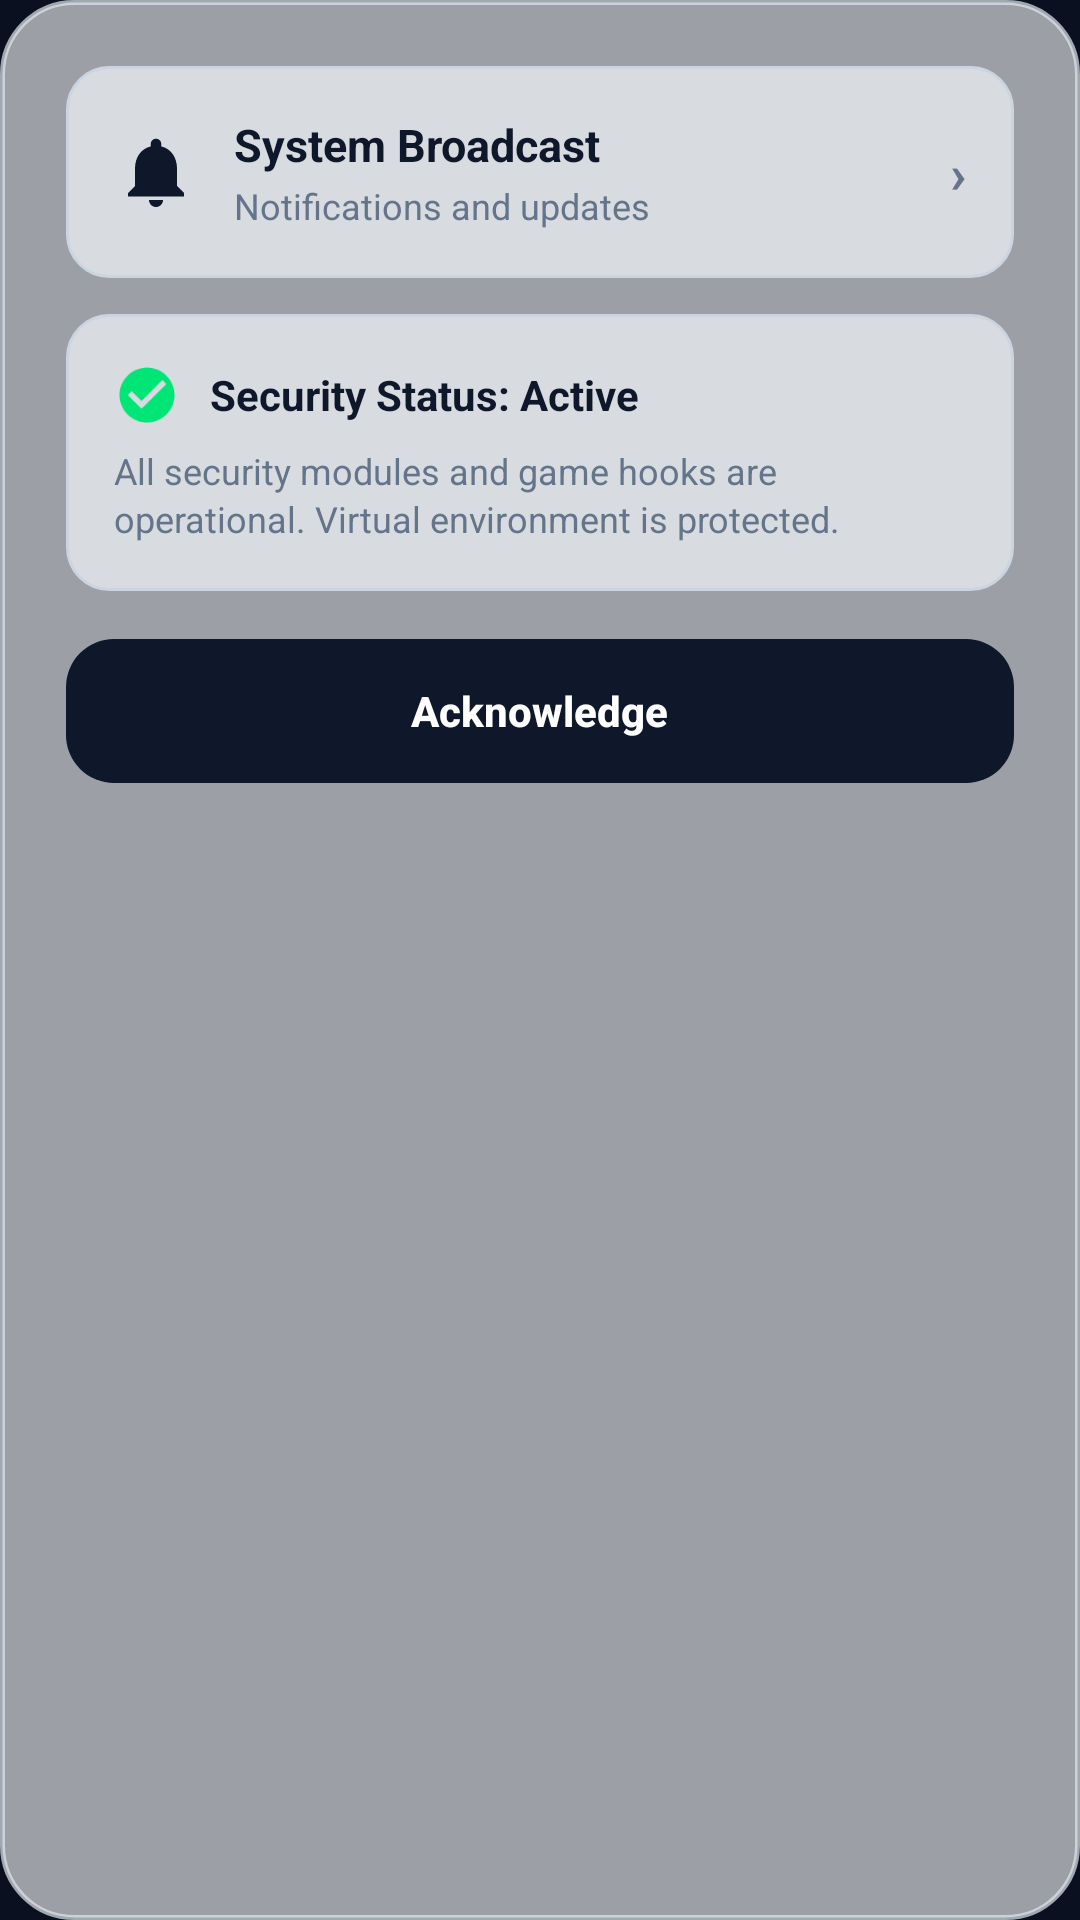

Icons on this 1080px×1920px Android screen, each with its box as (x1, y1, x2, y2):
Bell: (128, 138, 184, 207)
